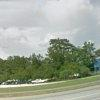Tree: (34, 33, 97, 78)
